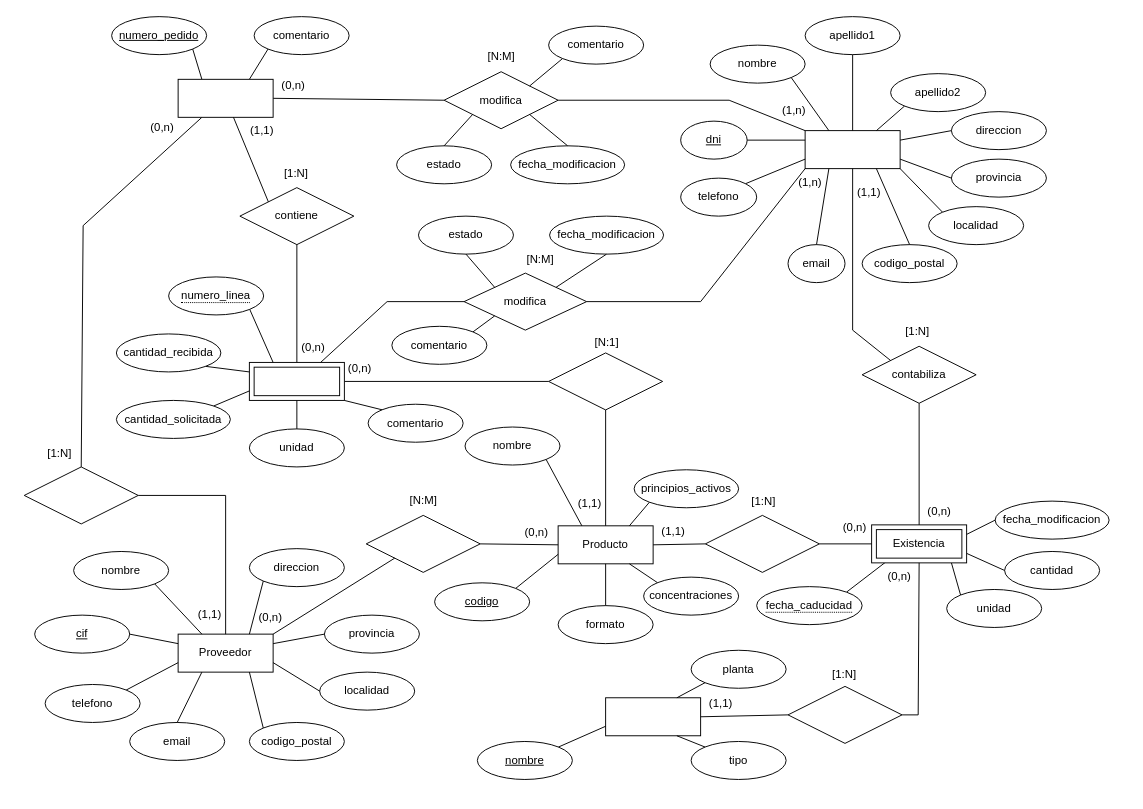
The diagram is 1143 pixels wide and 809 high, and some of its shapes have lost their labels. Each missing label, with the centre of its shape:
"gestiona" goes at pixel 80 495.
"LineaPedido" goes at pixel 296 380.
"Pedido" goes at pixel 225 97.
"presenta" goes at pixel 761 543.
"provee" goes at pixel 422 543.
"situada_en" goes at pixel 844 714.
"solicita" goes at pixel 605 381.
"Ubicacion" goes at pixel 653 716.
"Usuario" goes at pixel 852 149.
